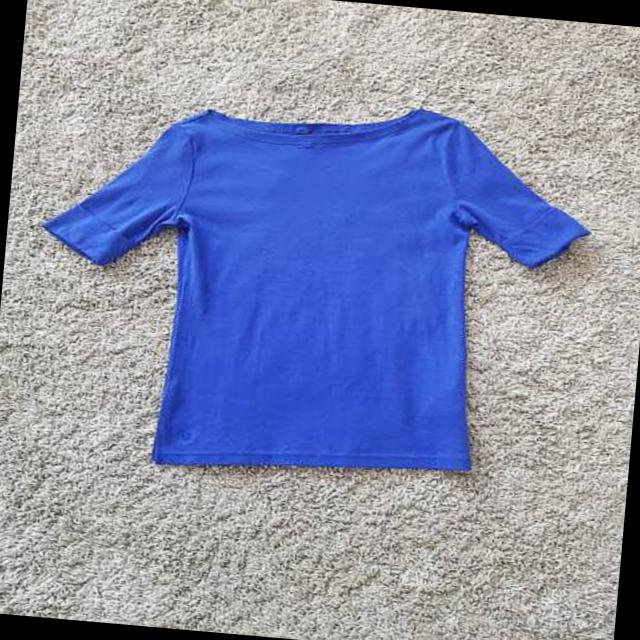T_SHIRT: (29, 75, 616, 502)
